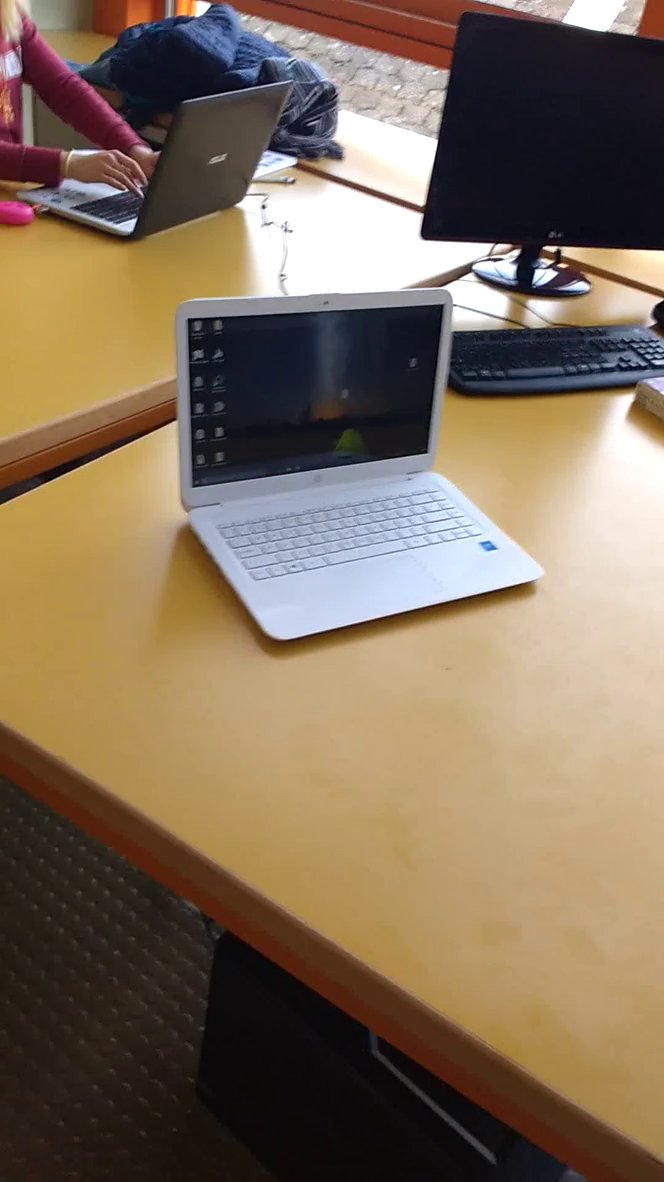laptop: (166, 273, 554, 659), (10, 70, 299, 252)
